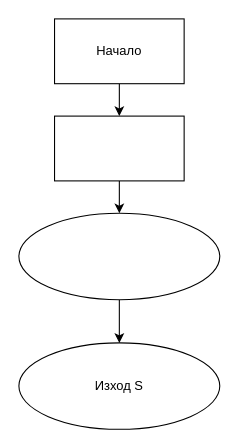
This 239x448 diagram has some shape labels left out. Each missing label, with the centre of its shape:
S = 7*tax+webs+20*r+idea+7*ekip+d: the point at 119,256
Вх. tax, webs, r, ekip, idea, d: the point at 118,148
